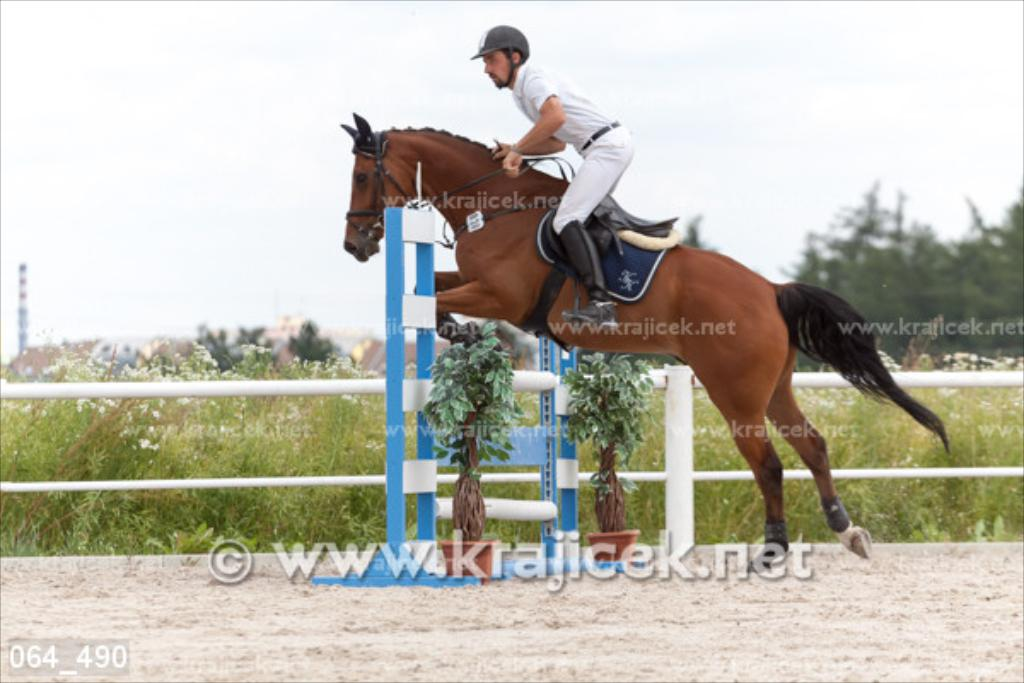Footwear: (565, 299, 620, 328)
